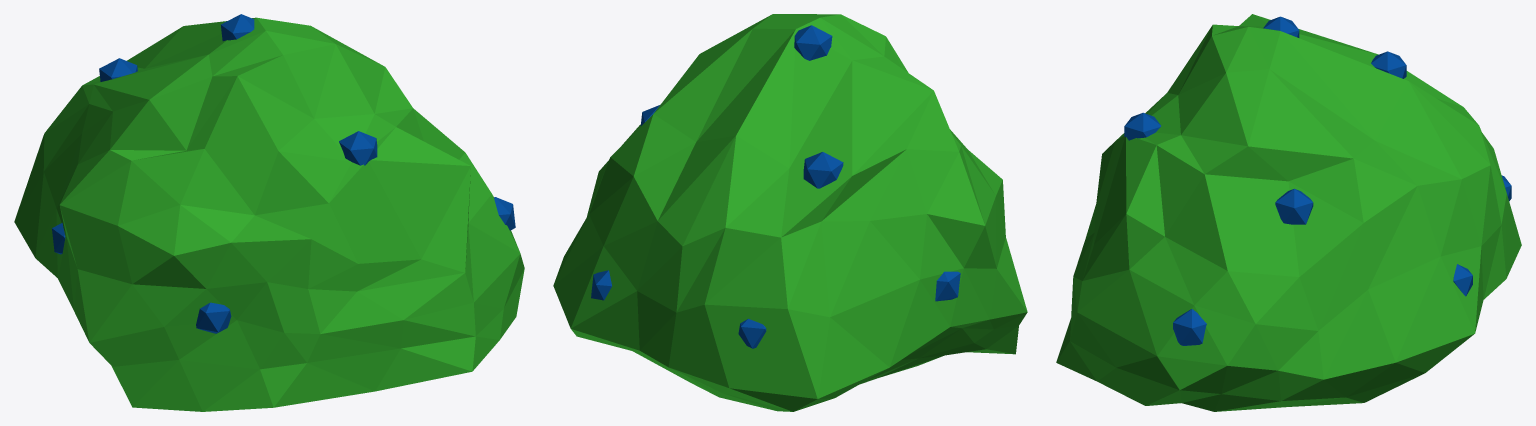
Rendered from BushBlue.obj.
The picture shows the model from 3 angles, left to right: view 1: azimuth 30°, elevation 25°; view 2: azimuth 150°, elevation 25°; view 3: azimuth 270°, elevation 25°; orthographic projection. The views are drawn at different scales.
Visible parts, largest first — view 1: Икосфера.000_Икосфера.031; view 2: Икосфера.000_Икосфера.031; view 3: Икосфера.000_Икосфера.031.
Boxes of the visible parts, x1,y1,x2,y2 form: Икосфера.000_Икосфера.031: (14, 14, 524, 411); Икосфера.000_Икосфера.031: (553, 14, 1027, 411); Икосфера.000_Икосфера.031: (1056, 14, 1521, 411).
Size of the model in its own units: 2.33 by 1.77 by 2.3.
